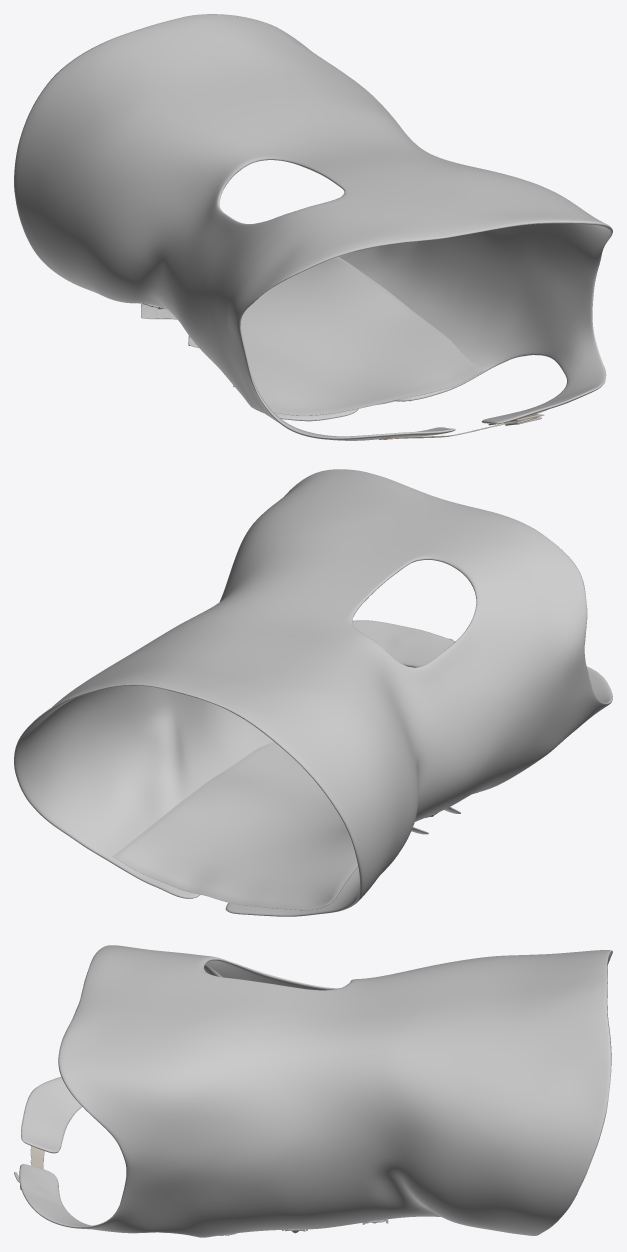
File: brace.gltf
3 views of the same model, one above another, from view 1: azimuth 30°, elevation 25°; view 2: azimuth 150°, elevation 25°; view 3: azimuth 270°, elevation 25° (orthographic). The views are drawn at different scales.
Visible parts, largest first — view 1: Bst; view 2: Bst; view 3: Bst.
Boxes of the visible parts, x1=… form: Bst: x1=14, y1=14, x2=612, y2=440; Bst: x1=14, y1=469, x2=612, y2=916; Bst: x1=14, y1=945, x2=612, y2=1237.
Bounding box in the file's own units: 0.6553 × 0.4385 × 1.03.
